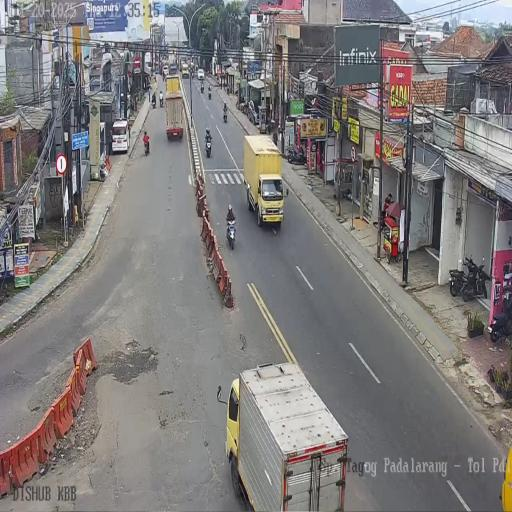car: (110, 118, 129, 155), (247, 99, 259, 124), (169, 62, 177, 76), (197, 68, 205, 81), (162, 64, 169, 78), (182, 64, 189, 78)
motorcycle: (461, 254, 488, 302), (488, 289, 512, 342), (286, 144, 306, 165), (226, 218, 236, 250), (204, 134, 212, 158), (239, 99, 249, 116), (144, 137, 150, 156), (223, 106, 228, 122), (151, 95, 156, 108), (159, 95, 164, 107), (200, 81, 204, 93), (159, 65, 163, 76), (208, 86, 211, 99), (191, 65, 194, 77), (148, 86, 150, 102)
truck: (222, 361, 341, 512), (244, 134, 284, 228), (164, 77, 184, 140), (144, 52, 151, 72)
